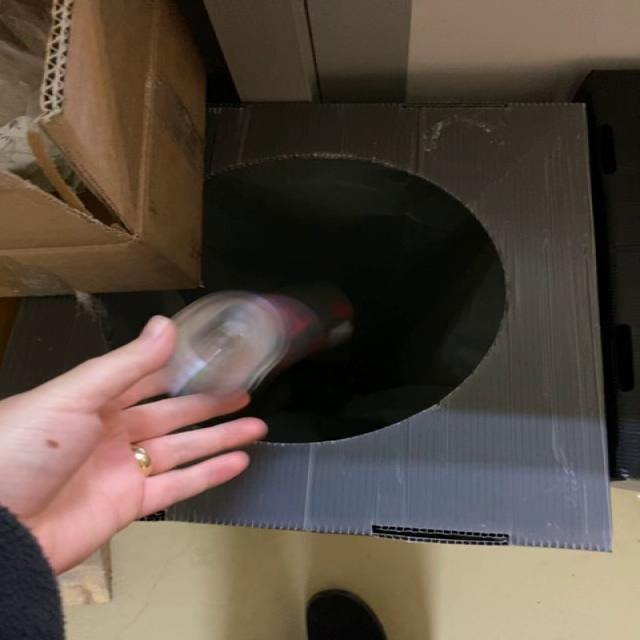bin: (169, 103, 609, 552), (1, 294, 183, 396)
metal: (165, 285, 353, 396)
